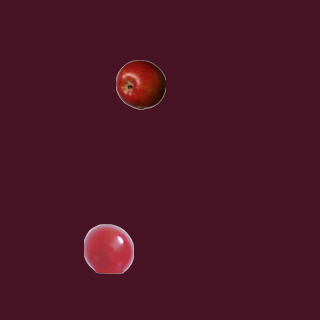Apple Braeburn: (115, 59, 165, 109)
Redcurrant: (83, 223, 133, 273)
